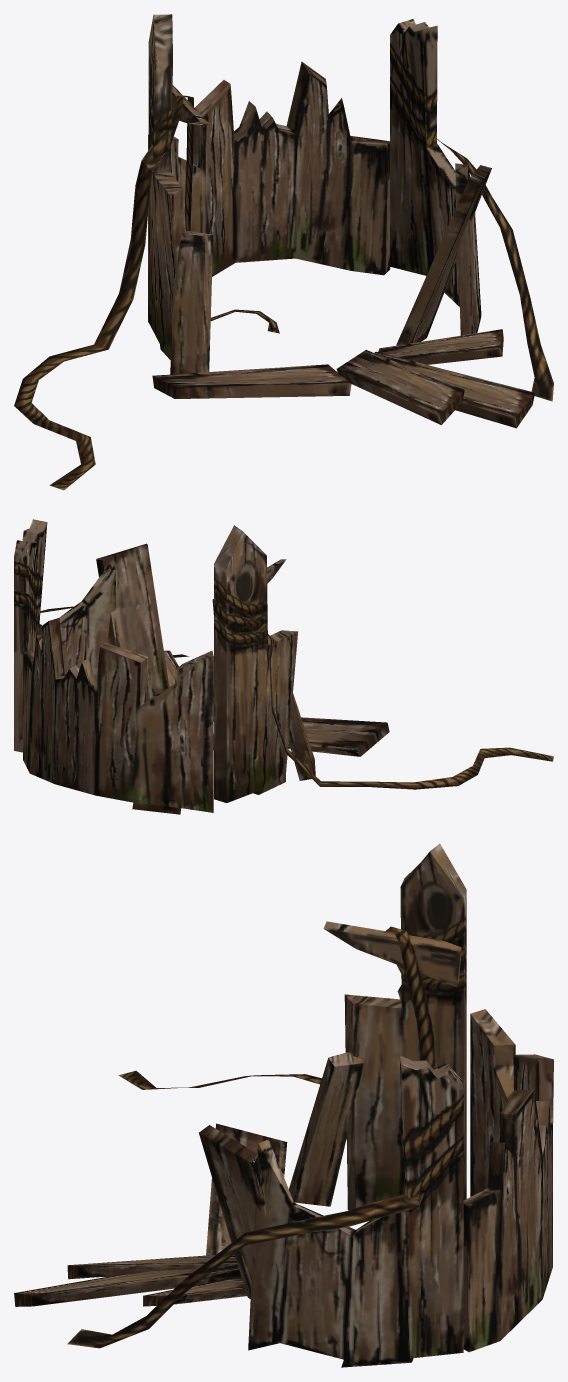
Rendered from PRP_BrokenBucket.fbx.
3 renders of one model, top to bottom at view 1: azimuth 30°, elevation 25°; view 2: azimuth 150°, elevation 25°; view 3: azimuth 270°, elevation 25°, orthographic. The views are drawn at different scales.
Parts seen in each view (by area): view 1: PRP_BrokenBucket; view 2: PRP_BrokenBucket; view 3: PRP_BrokenBucket.
Part boxes in pixels (x1,y1,x2,y2): PRP_BrokenBucket: (14,14,553,490); PRP_BrokenBucket: (14,519,553,814); PRP_BrokenBucket: (14,843,553,1367).
Size of the model in its own units: 206 by 125 by 162.
Materials: 1 (1 with a texture image).
